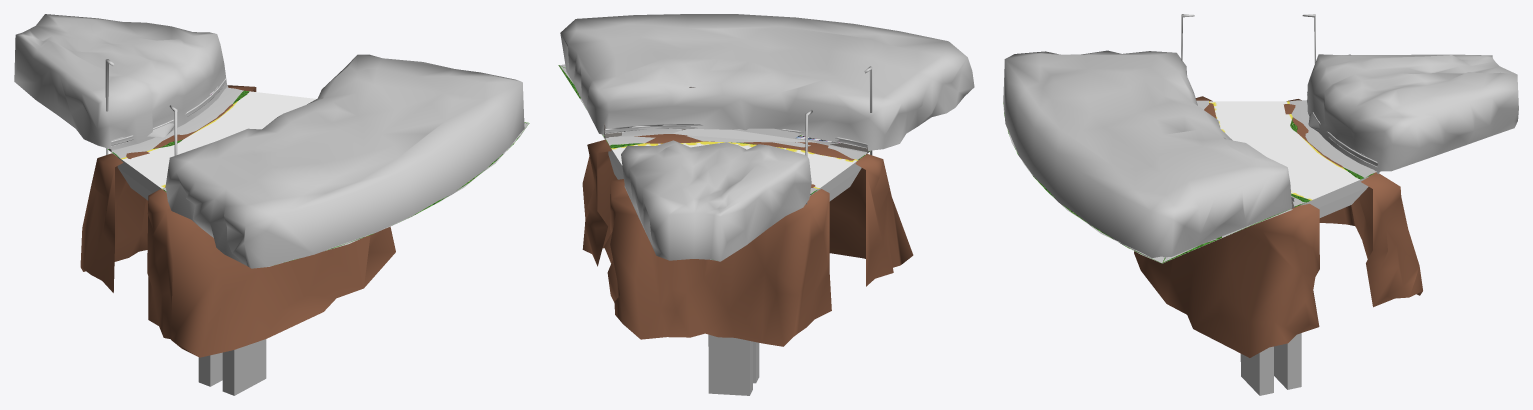
File: RoadLeft_LOD2.fbx
3 views of the same model, side by side, from view 1: azimuth 30°, elevation 25°; view 2: azimuth 150°, elevation 25°; view 3: azimuth 270°, elevation 25° (orthographic). The views are drawn at different scales.
Parts seen in each view (by area): view 1: MountainRight, MountainLeft, CliffRight, CliffLeft, Road Mask, Road, PianoLeft; view 2: MountainRight, CliffLeft, MountainLeft, CliffRight, Road, Road Mask, TreeWallRight, PianoRight, RailGuardRight; view 3: MountainRight, MountainLeft, CliffRight, CliffLeft, Road Mask, Road, PianoLeft, TerrainRight.
Boxes of the visible parts, <box> form: MountainRight: <box>165,54,524,268</box>; MountainLeft: <box>14,14,228,152</box>; CliffRight: <box>147,186,395,357</box>; CliffLeft: <box>80,85,256,292</box>; Road Mask: <box>121,91,315,189</box>; Road: <box>117,157,266,395</box>; PianoLeft: <box>108,87,243,158</box>; MountainRight: <box>560,14,974,154</box>; CliffLeft: <box>604,179,831,346</box>; MountainLeft: <box>621,140,811,261</box>; CliffRight: <box>582,134,913,286</box>; Road: <box>608,147,861,395</box>; Road Mask: <box>611,141,857,188</box>; TreeWallRight: <box>673,128,815,142</box>; PianoRight: <box>579,95,869,159</box>; RailGuardRight: <box>605,124,867,148</box>; MountainRight: <box>1003,50,1291,258</box>; MountainLeft: <box>1307,54,1518,174</box>; CliffRight: <box>1134,96,1319,357</box>; CliffLeft: <box>1283,99,1422,307</box>; Road Mask: <box>1209,101,1359,200</box>; Road: <box>1240,176,1368,395</box>; PianoLeft: <box>1289,100,1376,177</box>; TerrainRight: <box>1003,103,1310,263</box>.
Size of what is drawn, in the model's own units: 887 by 755 by 1104.
